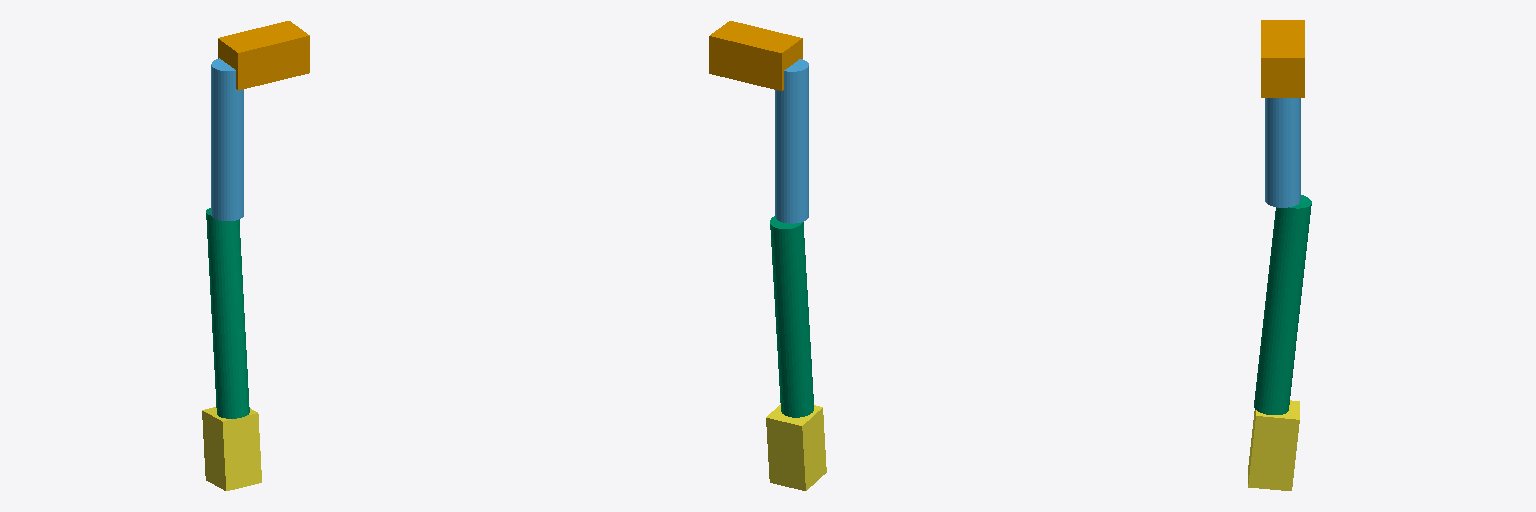
robot.urdf — myfirst_reachy:
<?xml version="1.0"?>
<robot name="myfirst_reachy">

  <material name="white">
    <color rgba=" 1 1 1 1"/>
  </material>

  <link name="base_link">
    <visual>
      <origin xyz="0 0 7.6" rpy="0 0 0" />
      <geometry>
        <box size="1.0 0.5 0.5"/>
      </geometry>
    </visual>
  </link>

  <link name="arm1">
    <visual>
      <origin xyz="-0.5 0 6.6" rpy="0 0 0" />
      <geometry>
        <cylinder length="2.0" radius="0.2" />
        <material name="white"/>
      </geometry>
    </visual>
  </link>

  <link name="arm2">
    <visual>
      <origin xyz="-0.5 0 4.3" rpy="-0.1 0 0" />
      <geometry>
        <cylinder length="2.6" radius="0.2" />
      </geometry>
    </visual>
  </link>

  <link name="finalefec">
    <visual>
      <origin xyz="-0.5 -0.1 2.55" rpy="-0.1 0 0" />
      <geometry>
        <box size="0.5 0.5 0.9"/>
      </geometry>
    </visual>
  </link>

  <joint name="base_link_to_arm1" type="fixed">
    <parent link="base_link"/>
    <child link="arm1"/>
  </joint>

  <joint name="arm1_to_arm2" type="fixed">
    <parent link="arm1"/>
    <child link="arm2"/>
  </joint>

  <joint name="arm2_to_finalefec" type="fixed">
    <parent link="arm2"/>
    <child link="finalefec"/>
  </joint>

</robot>

--- Facts derived from the render (not from the file) ---
The picture shows the robot from 3 angles, left to right: view 1: azimuth 30°, elevation 25°; view 2: azimuth 150°, elevation 25°; view 3: azimuth 270°, elevation 25°; orthographic projection.
Robot: myfirst_reachy — 4 links, 3 joints (3 fixed); root link base_link; default pose: all joints at 0.
Visible links, largest first — view 1: arm2, arm1, base_link, finalefec; view 2: arm2, arm1, base_link, finalefec; view 3: arm2, arm1, finalefec, base_link.
Boxes of the visible links, box(x1,y1,x2,y2) form: arm2: box(206, 208, 249, 418); arm1: box(211, 58, 243, 220); base_link: box(218, 21, 309, 90); finalefec: box(202, 407, 261, 490); arm2: box(770, 216, 813, 417); arm1: box(775, 59, 808, 223); base_link: box(709, 21, 802, 90); finalefec: box(766, 404, 826, 490); arm2: box(1254, 195, 1311, 414); arm1: box(1265, 98, 1300, 207); finalefec: box(1248, 400, 1299, 490); base_link: box(1261, 20, 1304, 97).
Size in the robot's own frame: 1.25 by 0.7225 by 5.77 metres.
Geometry: primitives only (box / cylinder / sphere), no mesh files.
